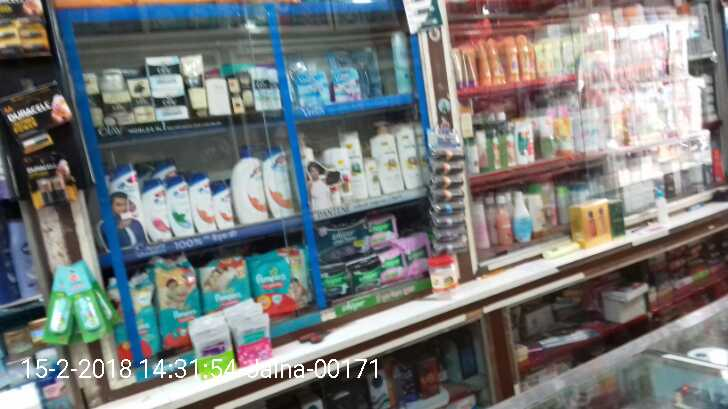venus: (296, 70, 324, 110), (359, 44, 379, 98), (336, 73, 359, 98)
